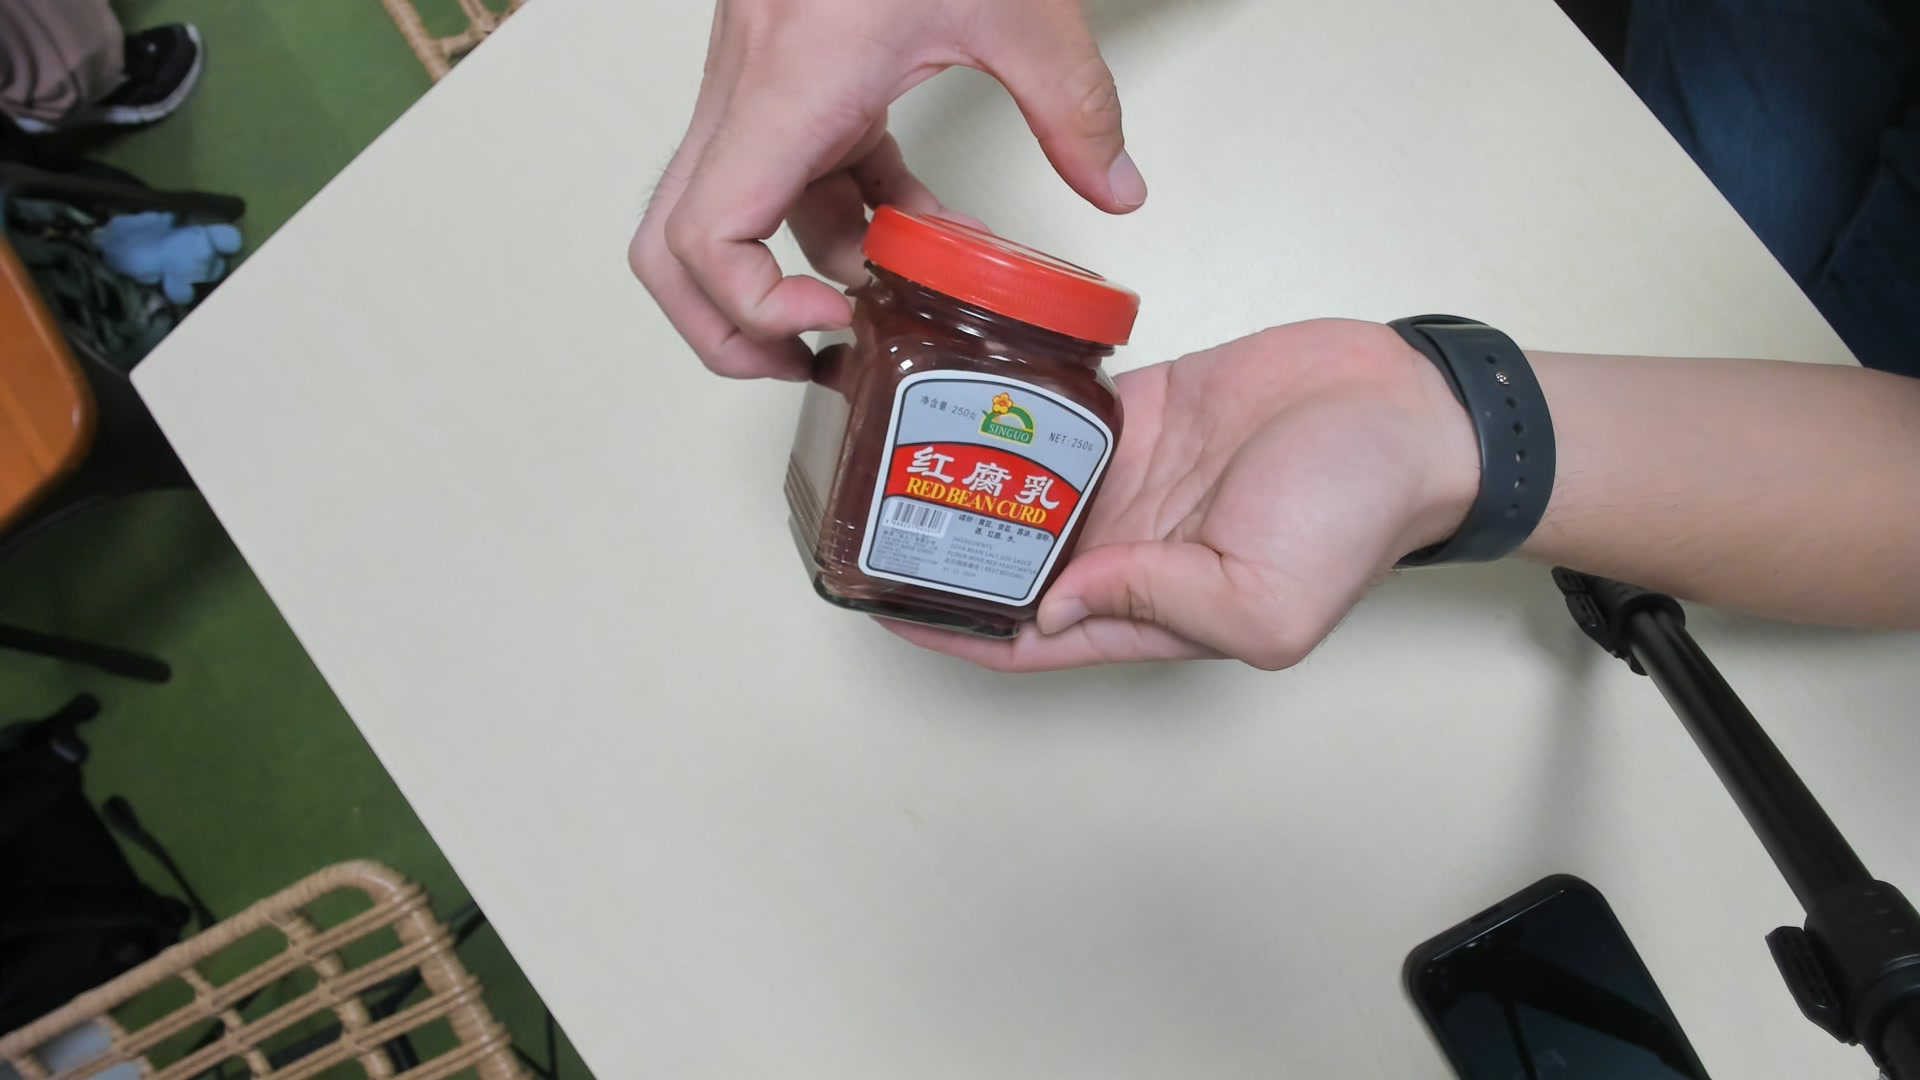OtherSauceDressing_200-299g_NonHalal_NonHealthy: (786, 212, 1134, 634)
